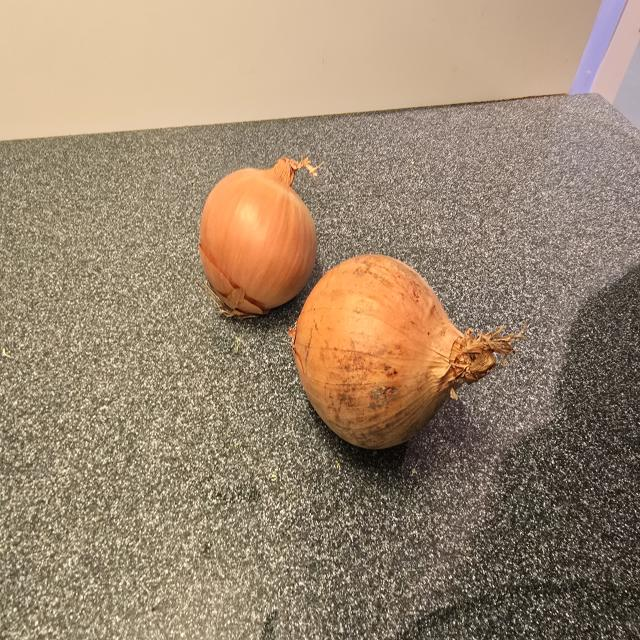Onion: (289, 255, 525, 449), (199, 157, 319, 315)
